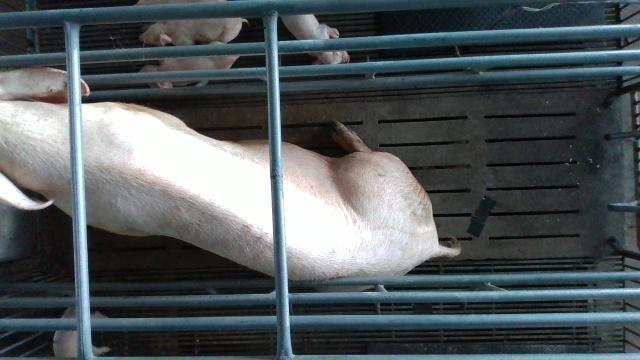piglet: (138, 15, 250, 47), (282, 15, 352, 66), (138, 55, 243, 88), (52, 308, 111, 360)
sow-sit: (1, 65, 461, 292)
